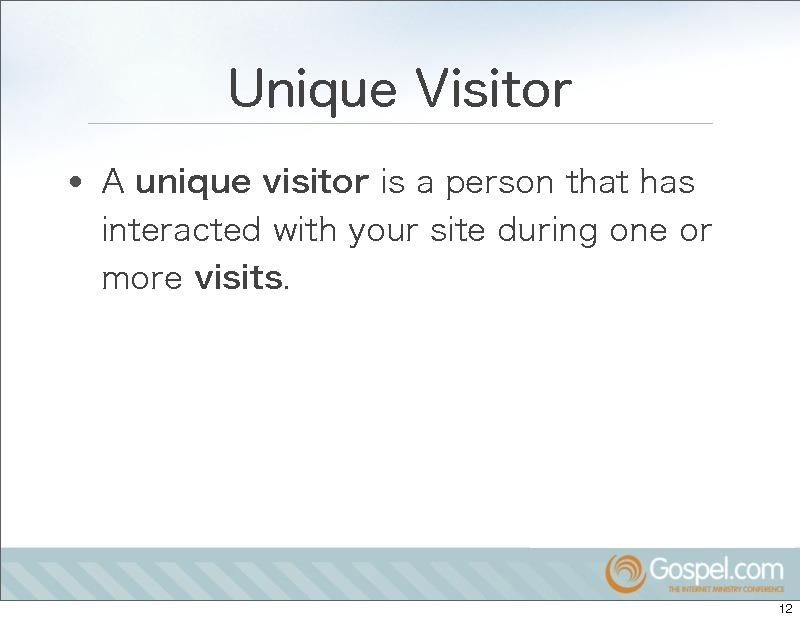paragraph: (97, 156, 737, 305)
title: (223, 50, 580, 117)
